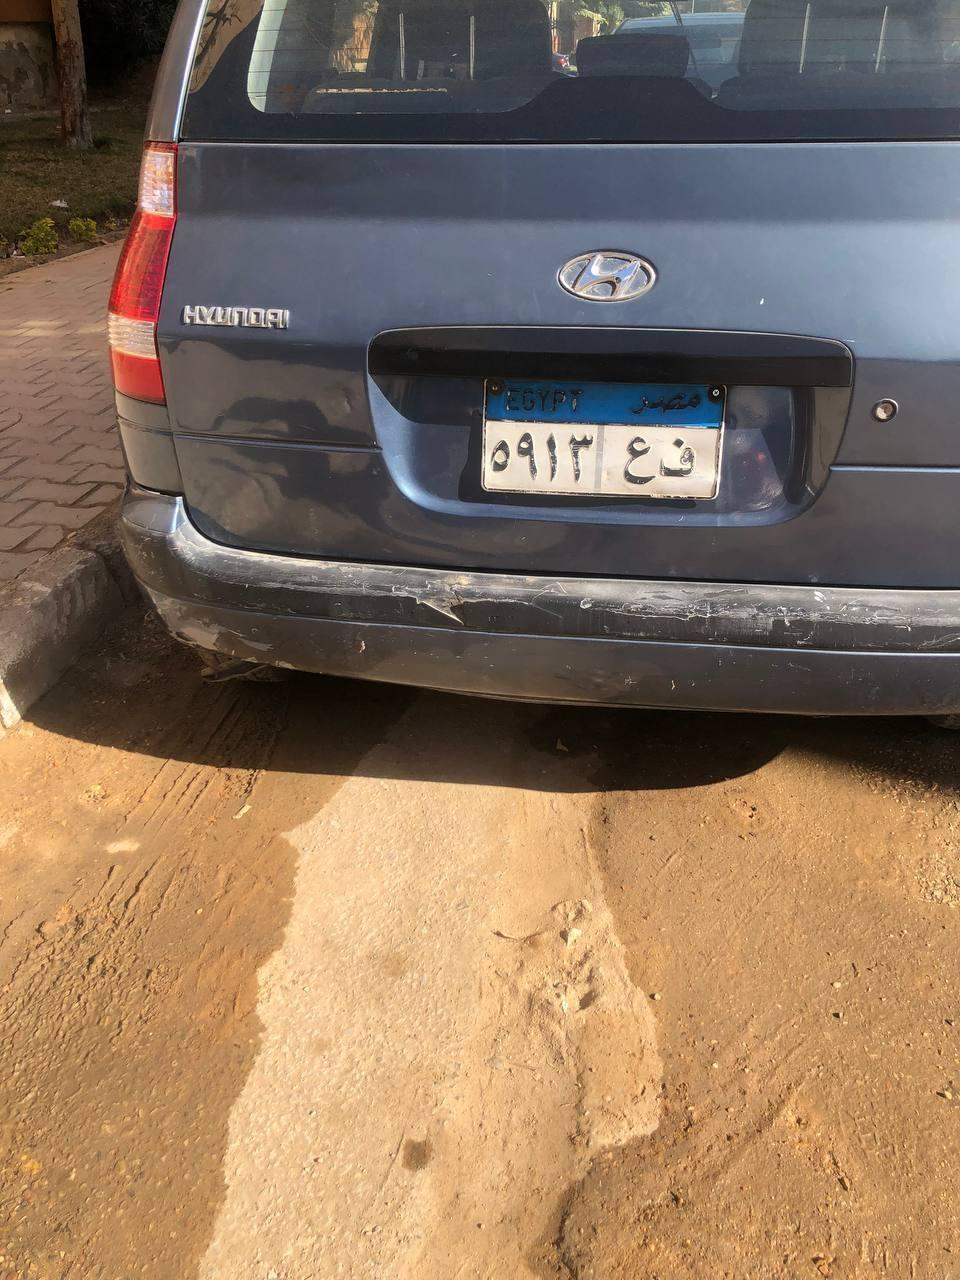1: (542, 427, 558, 483)
3: (567, 432, 593, 486)
5: (486, 439, 516, 476)
9: (517, 430, 542, 482)
Een: (624, 434, 654, 486)
License Plate: (472, 356, 730, 501)
